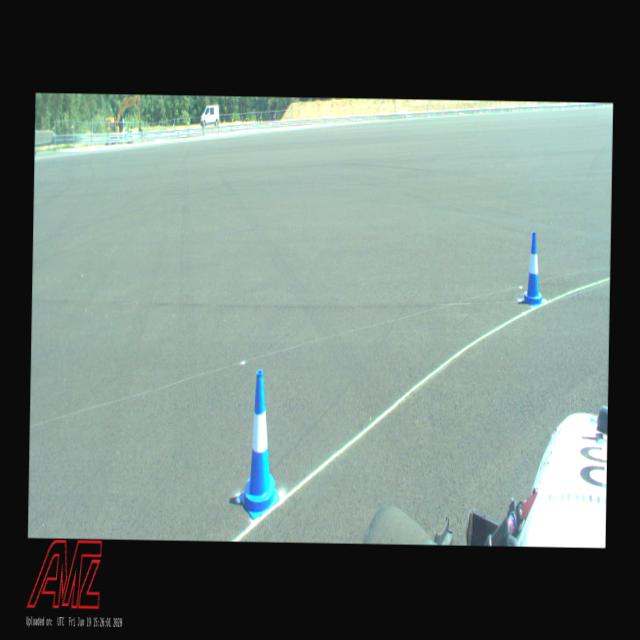blue_cone: (239, 368, 282, 520), (522, 232, 546, 306)
